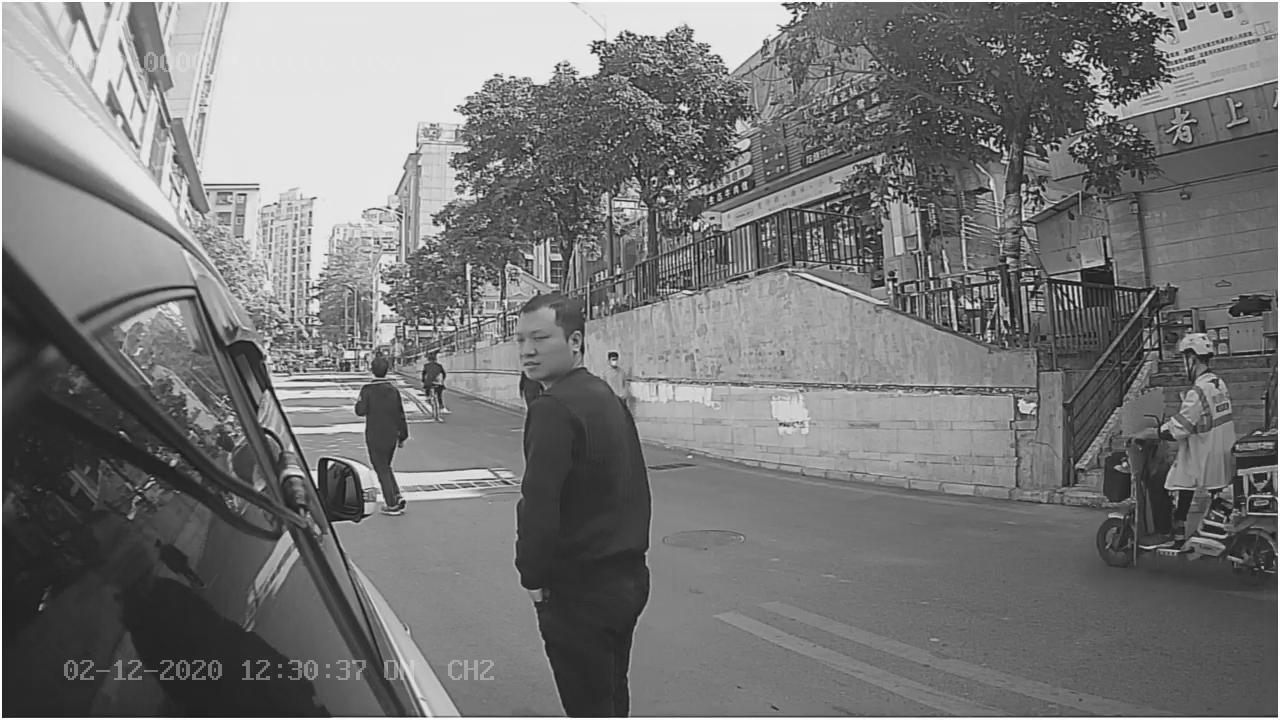person: (506, 291, 661, 600)
